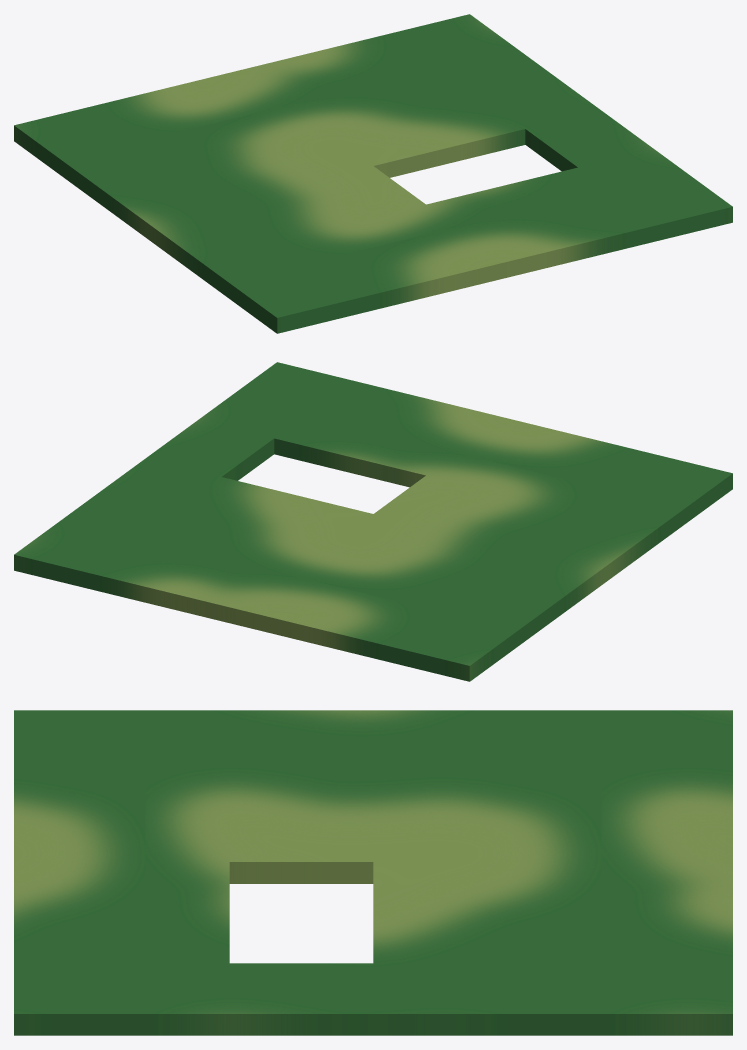
The model's file is OuterPlane.FBX.
The picture shows the model from 3 angles, top to bottom: view 1: azimuth 30°, elevation 25°; view 2: azimuth 150°, elevation 25°; view 3: azimuth 270°, elevation 25°; orthographic projection. The views are drawn at different scales.
Parts seen in each view (by area): view 1: PlaneSquare; view 2: PlaneSquare; view 3: PlaneSquare.
Boxes of the visible parts, box(x1,y1,x2,y2) form: PlaneSquare: box(14, 14, 732, 333); PlaneSquare: box(14, 362, 732, 681); PlaneSquare: box(14, 710, 732, 1035).
Size of the model in its own units: 300 by 10 by 300.
1 material, 1 textured.
